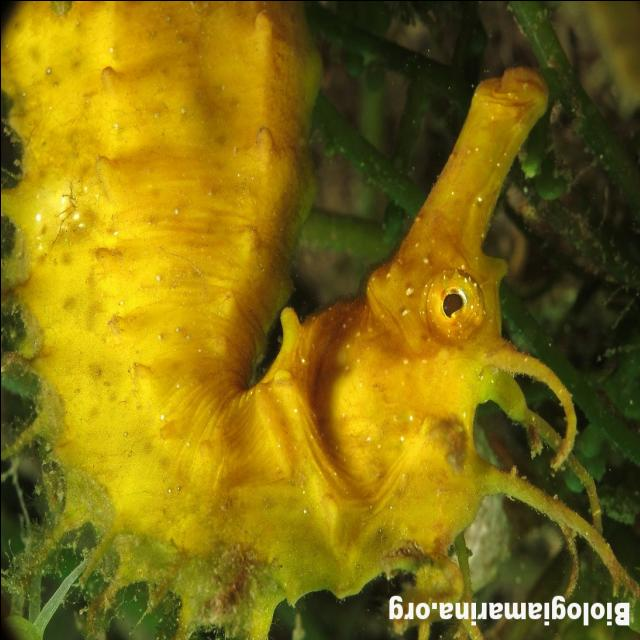Guttu: (276, 47, 560, 571)
